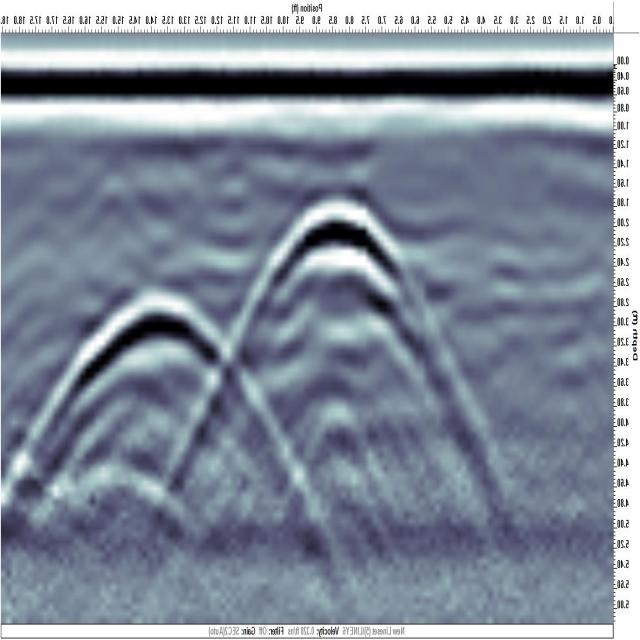hyperbola: (39, 274, 252, 435), (242, 179, 427, 331)
